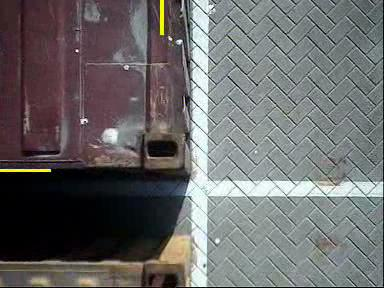groundmarker_2: (205, 59, 244, 121), (203, 226, 242, 288)
